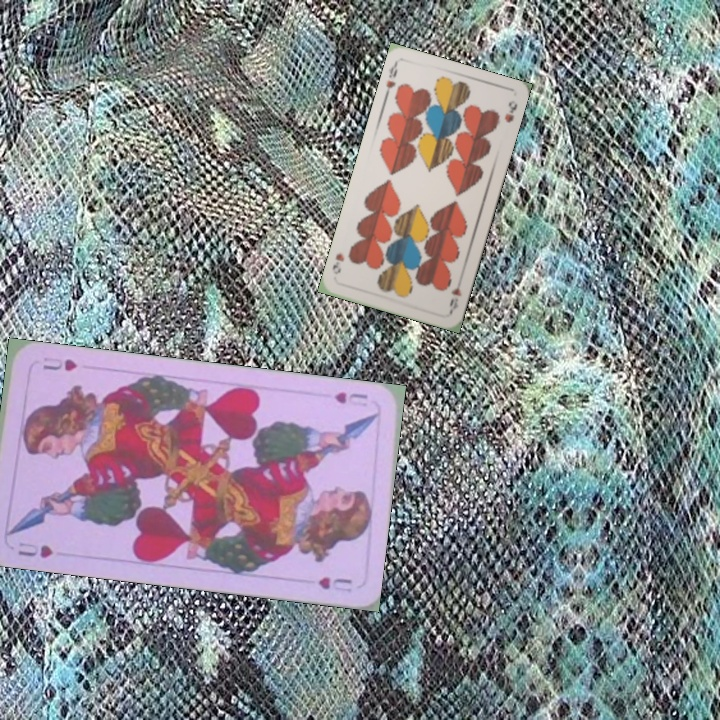H9: (445, 274, 465, 314), (381, 59, 400, 99)
HU: (14, 538, 55, 561), (330, 388, 370, 410)
